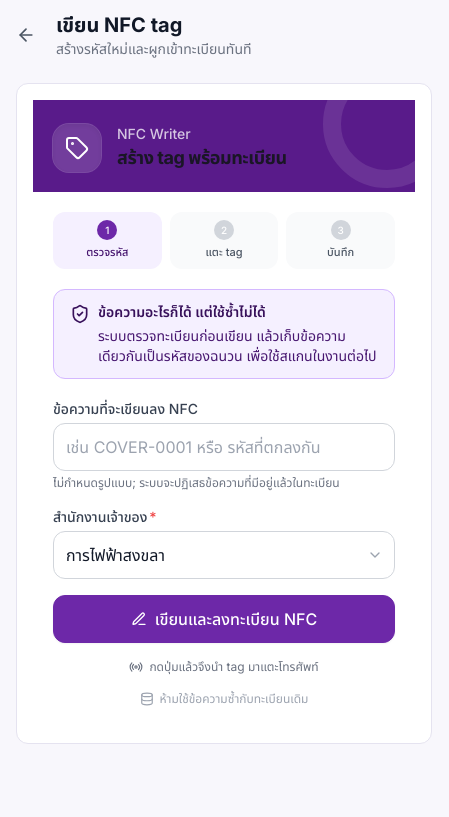
Test case: WriteNfcPage — write and register (Flow 3) › warns without misleading the user when the tag is written but registration fails
Type "COVER-0002" into the field labelled "ข้อความที่จะเขียนลง NFC" at (224, 446), box [53,422,395,470]
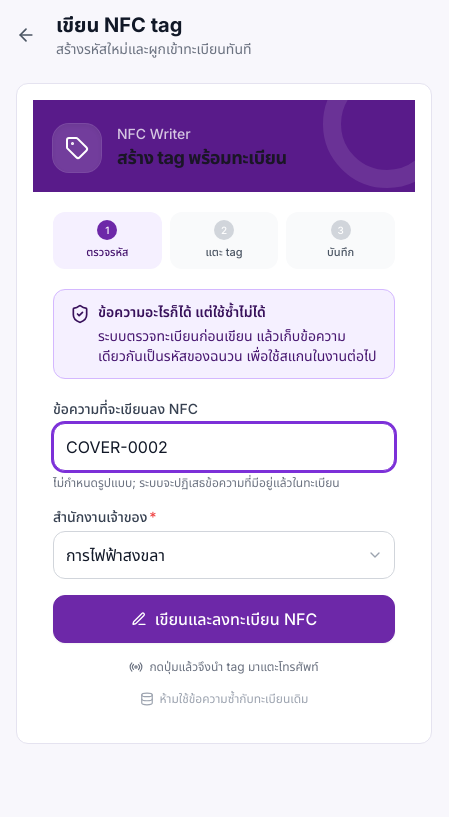
Select "การไฟฟ้าสงขลา" in the dropdown labelled "สำนักงานเจ้าของ*" at (224, 554), box [53,530,395,578]
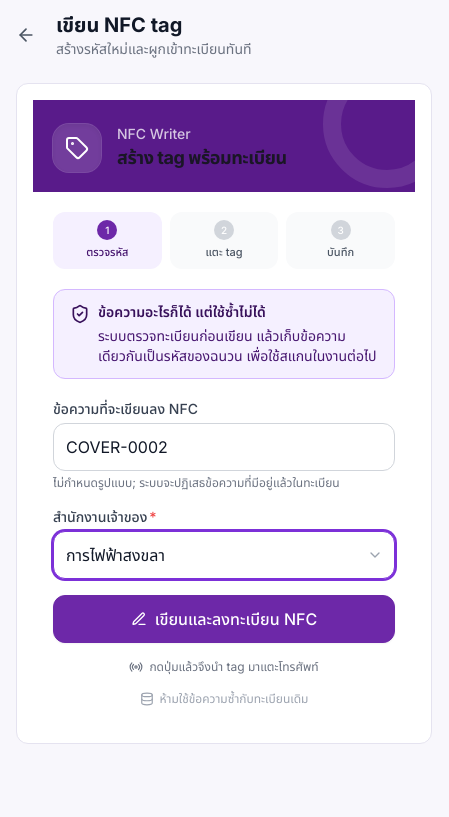
Click the button "เขียนและลงทะเบียน NFC" at (224, 618), box [53,594,395,642]
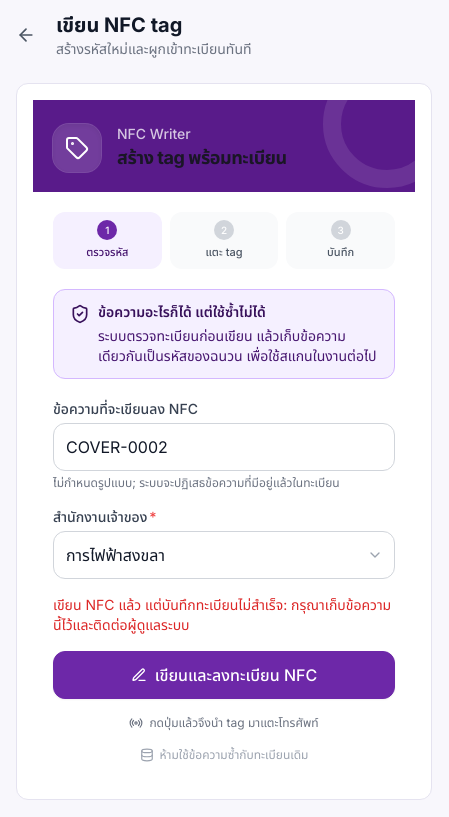
Result: the message shows "เขียน NFC แล้ว แต่บันทึกทะเบียนไม่สำเร็จ" at [53,596,391,632]
